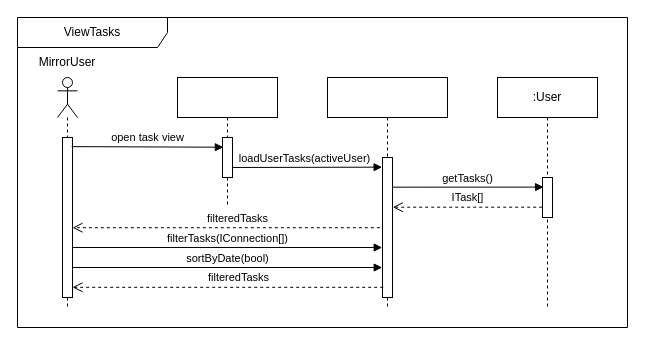
The diagram is 645 pixels wide and 345 high, and some of its shapes have lost their labels. The shapes that lost their labels are listed below. From the top down, each one's centre as x and y in pixels, then its label:
At [227,142]: ":SmartMirror".
At [387,192]: ":TaskViewController".
